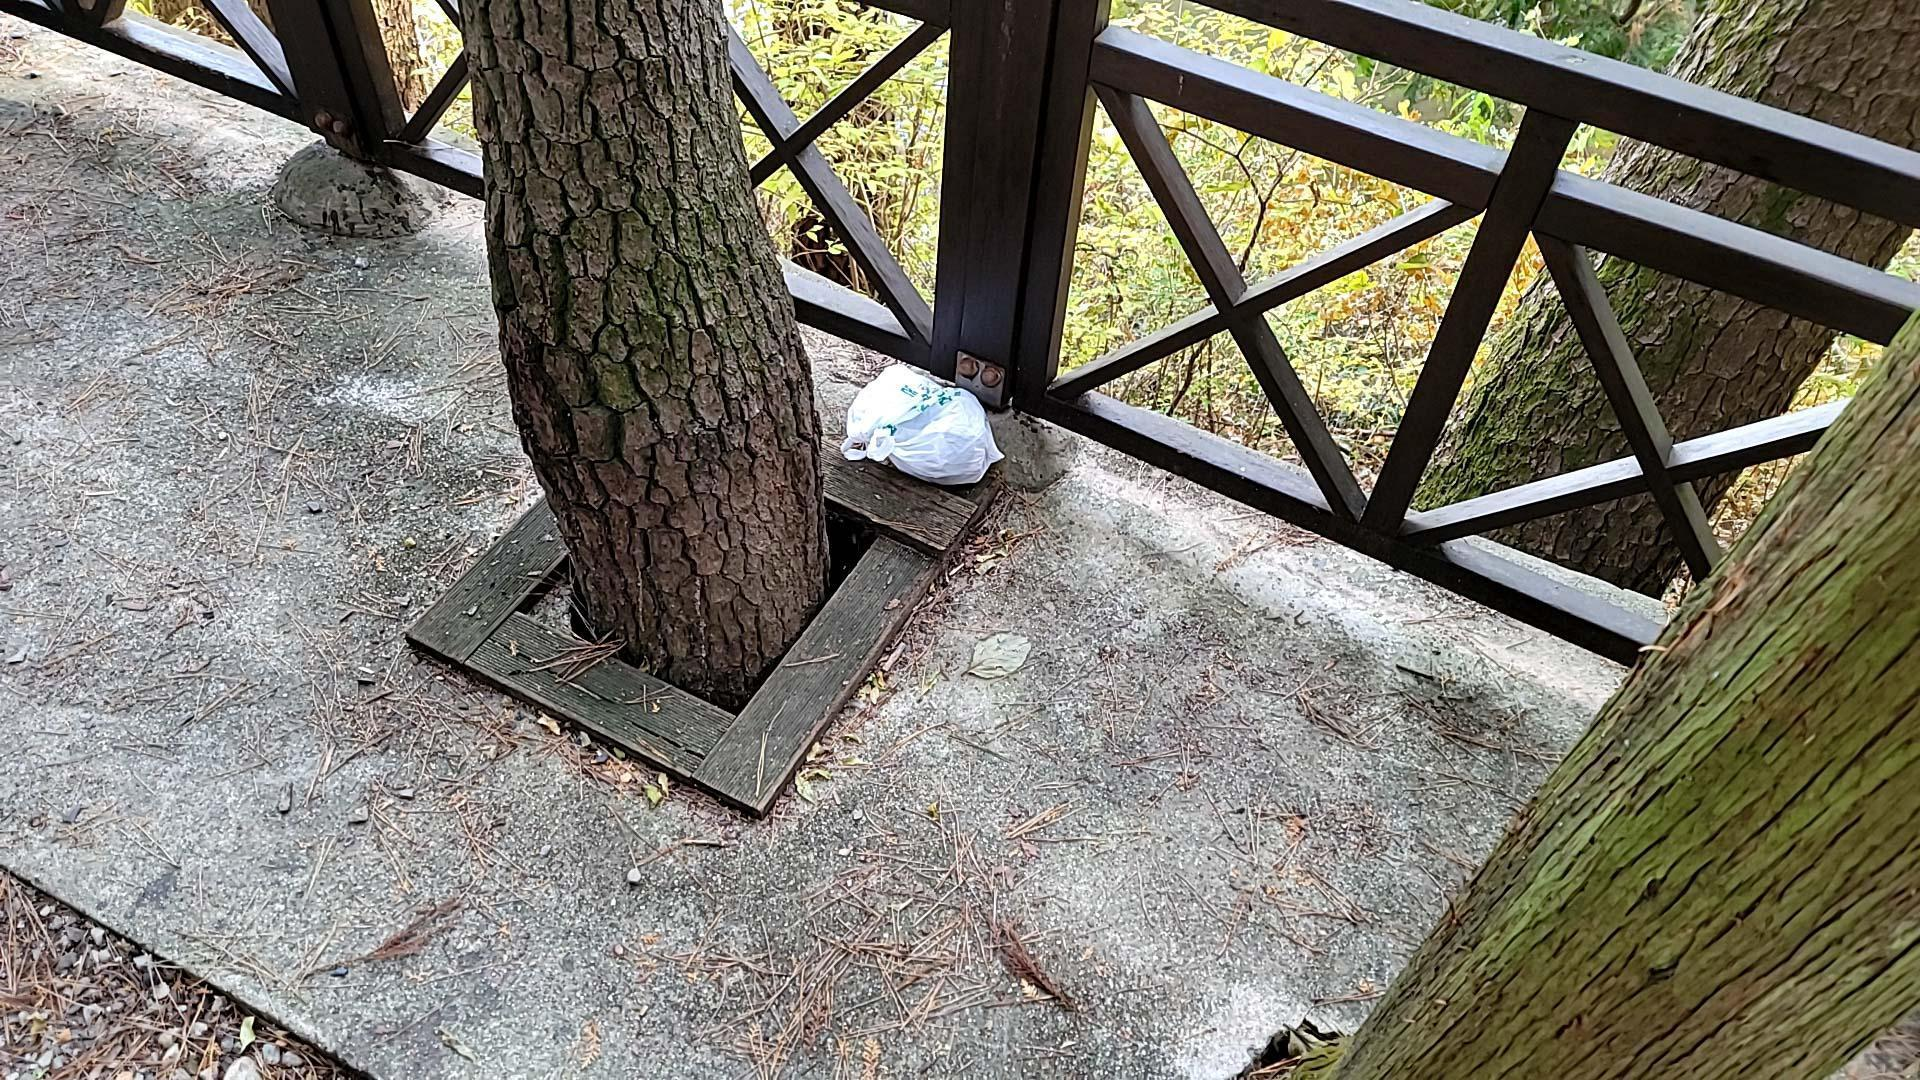white_bag: (829, 349, 1007, 495)
